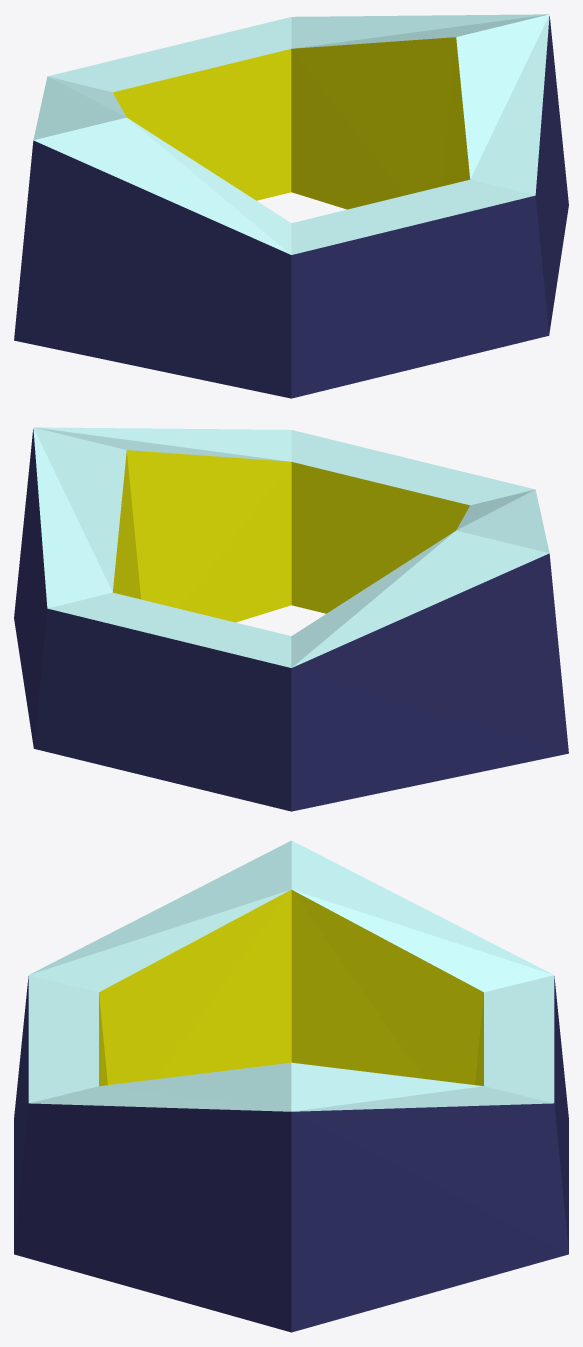
The model's file is truc3.obj.
3 views of the same model, one above another, from view 1: azimuth 30°, elevation 25°; view 2: azimuth 150°, elevation 25°; view 3: azimuth 270°, elevation 25° (orthographic). The views are drawn at different scales.
Parts seen in each view (by area): view 1: Lumpy Torus1_couleur_051_051_112, Lumpy Torus1_couleur_204_256_256, Lumpy Torus1_couleur_256_256_001; view 2: Lumpy Torus1_couleur_051_051_112, Lumpy Torus1_couleur_204_256_256, Lumpy Torus1_couleur_256_256_001; view 3: Lumpy Torus1_couleur_051_051_112, Lumpy Torus1_couleur_204_256_256, Lumpy Torus1_couleur_256_256_001.
Boxes of the visible parts, <box> form: Lumpy Torus1_couleur_051_051_112: <box>14,16,568,398</box>; Lumpy Torus1_couleur_204_256_256: <box>33,14,549,254</box>; Lumpy Torus1_couleur_256_256_001: <box>113,37,470,209</box>; Lumpy Torus1_couleur_051_051_112: <box>14,429,568,811</box>; Lumpy Torus1_couleur_204_256_256: <box>33,427,549,667</box>; Lumpy Torus1_couleur_256_256_001: <box>112,450,469,622</box>; Lumpy Torus1_couleur_051_051_112: <box>14,976,568,1332</box>; Lumpy Torus1_couleur_204_256_256: <box>28,840,554,1111</box>; Lumpy Torus1_couleur_256_256_001: <box>99,889,483,1086</box>.
Bounding box in the file's own units: 2.62 × 0.8839 × 2.11.
